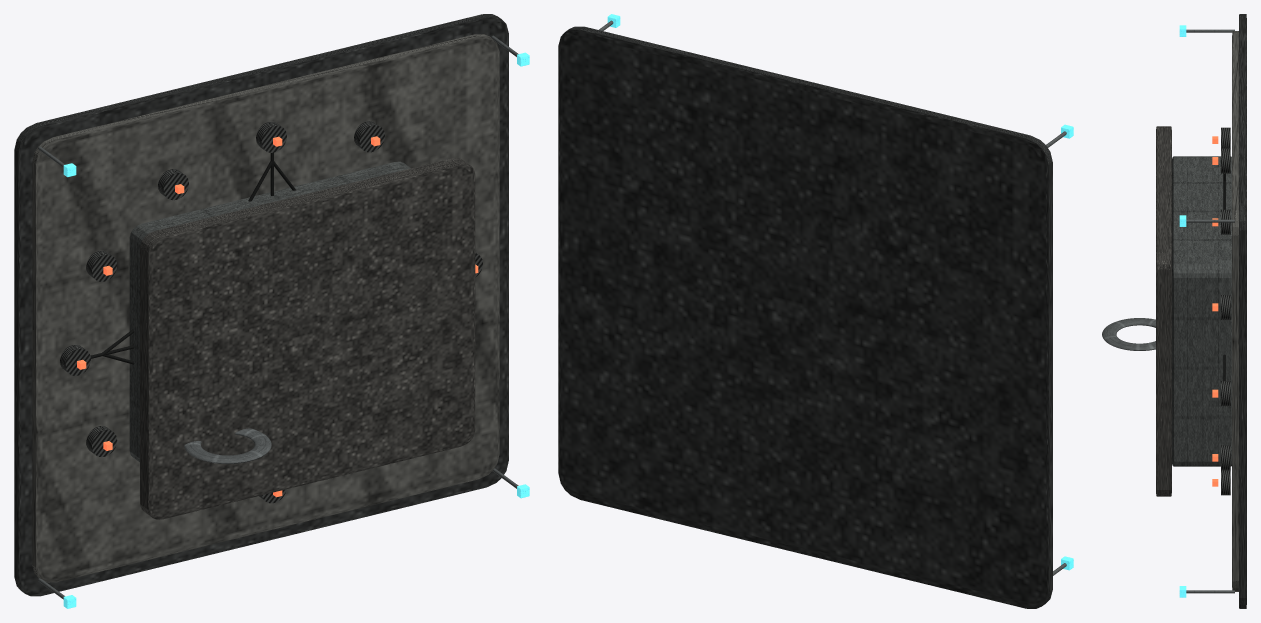
The model's file is b-37-mine-control-lod0.glb.
3 renders of one model, left to right at view 1: azimuth 30°, elevation 25°; view 2: azimuth 150°, elevation 25°; view 3: azimuth 270°, elevation 25°, orthographic. The views are drawn at different scales.
Parts seen in each view (by area): view 1: foundation_inner_pad, buried_roof, foundation, bunker_main, primary_cable_reel, mine_06, mine_04, mine_07, mine_03, mine_08, mine_05; view 2: foundation; view 3: bunker_main, buried_roof, foundation, foundation_inner_pad, primary_cable_reel, mine_01, mine_04, mine_11, mine_12, mine_02, mine_03, mine_05.
Boxes of the visible parts, x1=… form: foundation_inner_pad: x1=32, y1=34, x2=499, y2=582; buried_roof: x1=140, y1=158, x2=475, y2=519; foundation: x1=14, y1=14, x2=508, y2=596; bunker_main: x1=129, y1=161, x2=410, y2=462; primary_cable_reel: x1=184, y1=428, x2=271, y2=463; mine_06: x1=86, y1=250, x2=117, y2=281; mine_04: x1=256, y1=121, x2=286, y2=152; mine_07: x1=60, y1=344, x2=90, y2=375; mine_03: x1=354, y1=121, x2=384, y2=152; mine_08: x1=86, y1=426, x2=117, y2=456; mine_05: x1=158, y1=169, x2=188, y2=200; foundation: x1=558, y1=26, x2=1052, y2=608; bunker_main: x1=1172, y1=156, x2=1231, y2=466; buried_roof: x1=1156, y1=126, x2=1171, y2=496; foundation: x1=1239, y1=14, x2=1246, y2=608; foundation_inner_pad: x1=1232, y1=31, x2=1238, y2=591; primary_cable_reel: x1=1102, y1=318, x2=1155, y2=350; mine_01: x1=1221, y1=381, x2=1230, y2=406; mine_04: x1=1221, y1=148, x2=1230, y2=173; mine_11: x1=1221, y1=470, x2=1230, y2=495; mine_12: x1=1221, y1=445, x2=1230, y2=470; mine_02: x1=1221, y1=295, x2=1230, y2=319; mine_03: x1=1221, y1=209, x2=1230, y2=234; mine_05: x1=1221, y1=127, x2=1230, y2=148.
Size of what is drawn, in the model's own units: 12 by 11 by 3.58.
9 materials, 9 textured.
